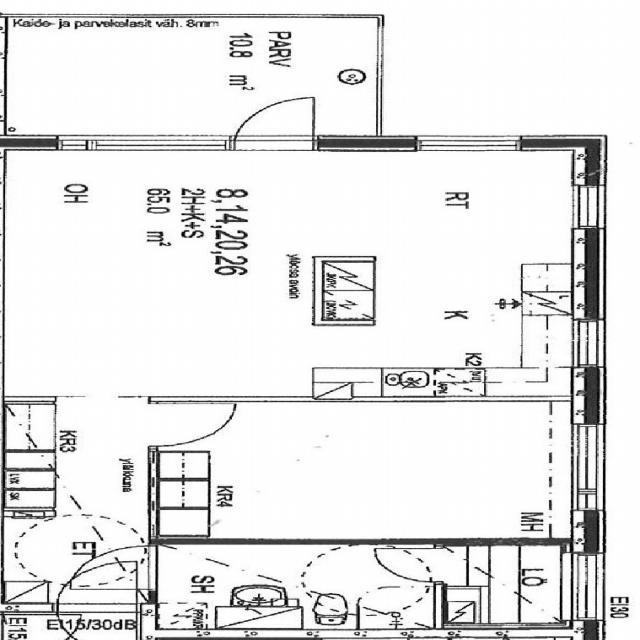door: (234, 91, 316, 150), (57, 560, 136, 614), (71, 546, 157, 589), (149, 404, 233, 446), (377, 548, 449, 580)
